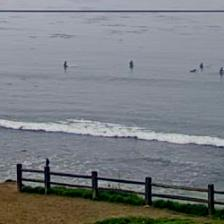surfer: (129, 60, 135, 68), (64, 60, 68, 67), (200, 62, 204, 69), (190, 69, 197, 73), (220, 67, 223, 75)
